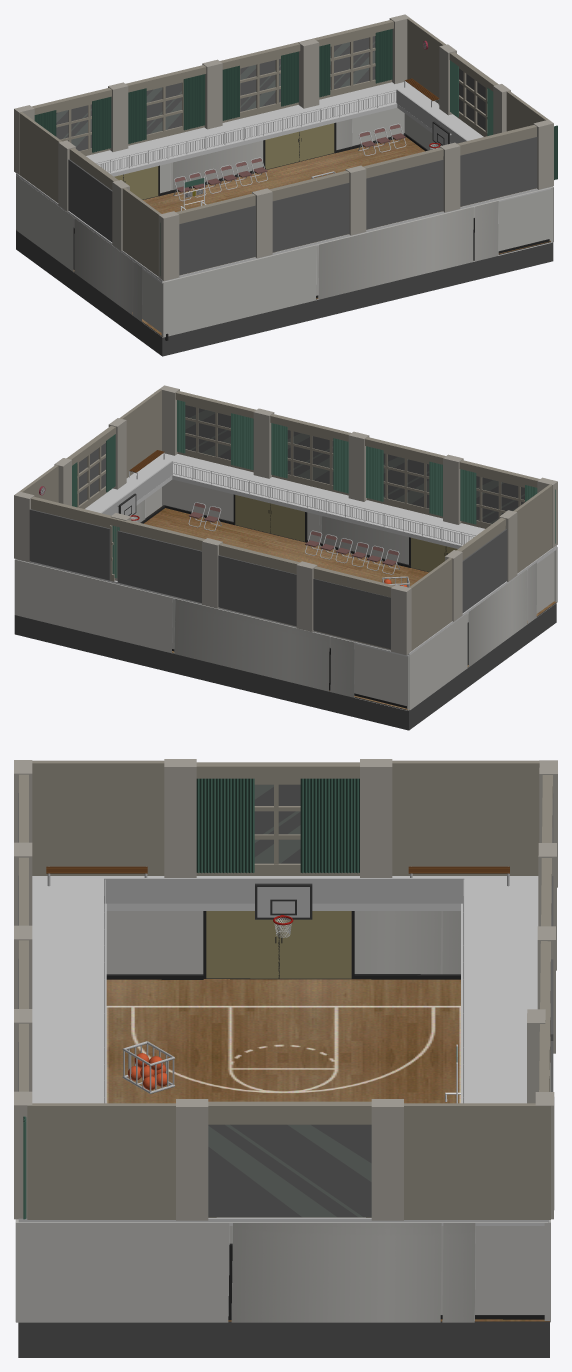
File: basketball 08court.fbx
3 views of the same model, one above another, from view 1: azimuth 30°, elevation 25°; view 2: azimuth 150°, elevation 25°; view 3: azimuth 270°, elevation 25° (orthographic). The views are drawn at different scales.
Visible parts, largest first — view 1: Cube.004, Cube, Cube.007, Cube.029, Cube.003, Cube.060, Cube.036, Cube.068, Cube.061, Cube.039, Cube.023, Cube.055 (+43 smaller); view 2: Cube.003, Cube, Cube.007, Cube.029, Cube.004, Cube.020, Cube.073, Cube.069, Cube.019, Cube.039, Cube.023, Cube.055 (+43 smaller); view 3: Cube, Cube.027, Cube.007, Cube.063, Cube.070, Cube.055, Cube.089, Cube.062, Cube.029, Cube.079, Cube.008, Cube.025 (+27 smaller).
Part boxes in pixels (x1,y1,x2,y2): Cube.004: (161,187,553,337); Cube: (16,137,553,356); Cube.007: (16,81,552,283); Cube.029: (16,175,165,337); Cube.003: (16,108,404,228); Cube.060: (272,182,349,252); Cube.036: (366,159,443,229); Cube.068: (460,137,537,206); Cube.061: (179,205,255,275); Cube.039: (32,20,393,114); Cube.023: (176,125,536,220); Cube.055: (19,112,62,202); Cube.003: (14,559,409,710); Cube: (14,507,556,730); Cube.007: (15,453,556,657); Cube.029: (407,546,557,710); Cube.004: (162,479,557,602); Cube.020: (117,530,201,602); Cube.073: (29,509,110,580); Cube.069: (218,555,296,626); Cube.019: (313,578,390,649); Cube.039: (31,496,393,594); Cube.023: (175,391,539,487); Cube.055: (409,558,452,650); Cube: (18,979,549,1357); Cube.027: (16,1220,547,1322); Cube.007: (18,876,549,1225); Cube.063: (27,1103,175,1219); Cube.070: (404,1103,550,1219); Cube.055: (392,760,539,875); Cube.089: (208,1124,371,1217); Cube.062: (32,760,164,875); Cube.029: (106,911,460,974); Cube.079: (203,911,354,979); Cube.008: (104,878,464,903); Cube.025: (300,778,359,873).
Bounding box in the file's own units: 66192 × 22080 × 43208.
